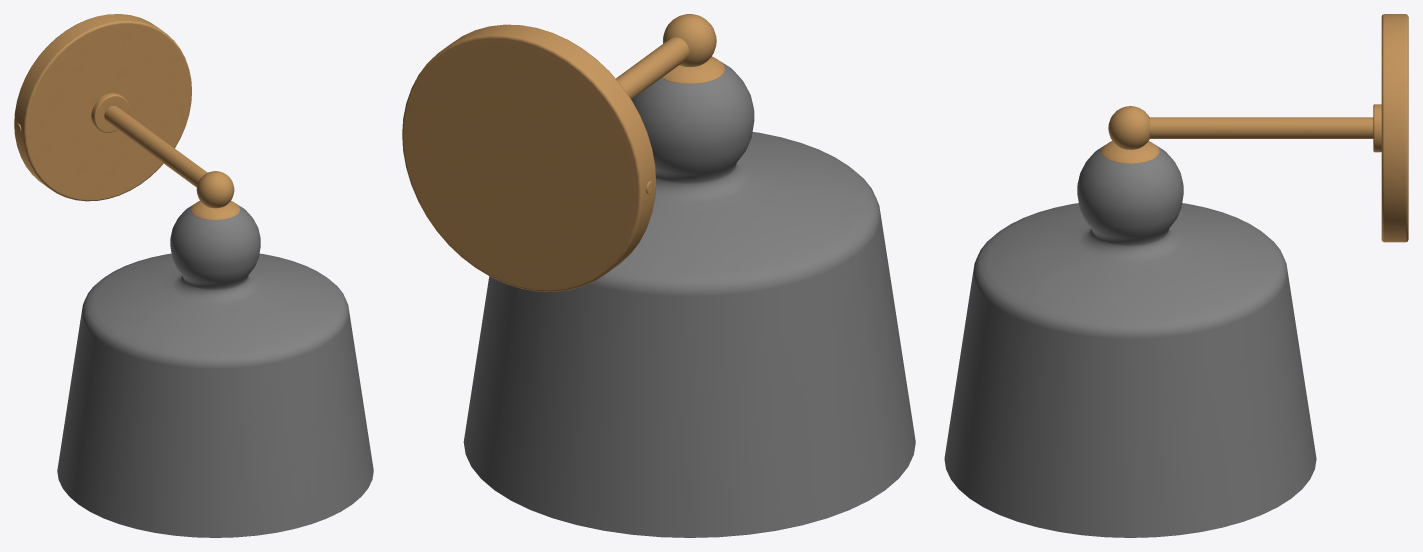
File: abo-B07374K53B.glb
The picture shows the model from 3 angles, left to right: view 1: azimuth 30°, elevation 25°; view 2: azimuth 150°, elevation 25°; view 3: azimuth 270°, elevation 25°; orthographic projection. The views are drawn at different scales.
Size of the model in its own units: 0.204 by 0.268 by 0.254.
Materials: 1 (1 with a texture image).
